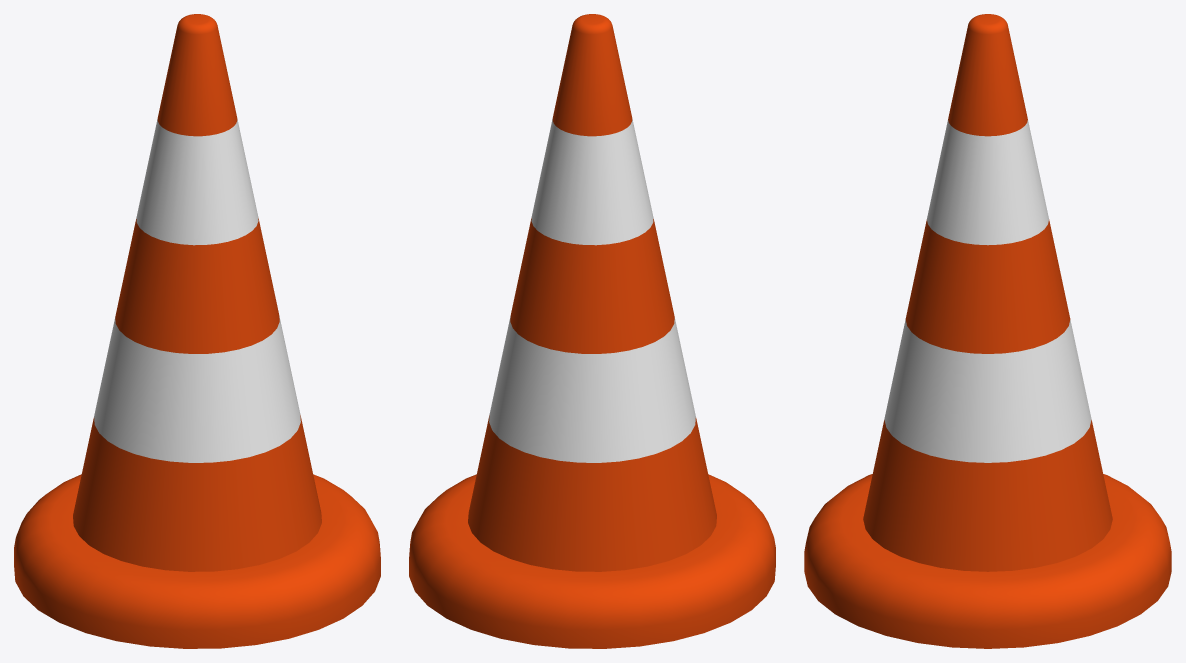
3 views of the same model, side by side, from view 1: azimuth 30°, elevation 25°; view 2: azimuth 150°, elevation 25°; view 3: azimuth 270°, elevation 25° (orthographic).
Visible parts, largest first — view 1: Cone; view 2: Cone; view 3: Cone.
Part boxes in pixels (x1,y1,x2,y2): Cone: (14,14,380,648); Cone: (409,14,775,648); Cone: (804,14,1171,648).
Bounding box in the file's own units: 0.8158 × 0.8158 × 1.35.
